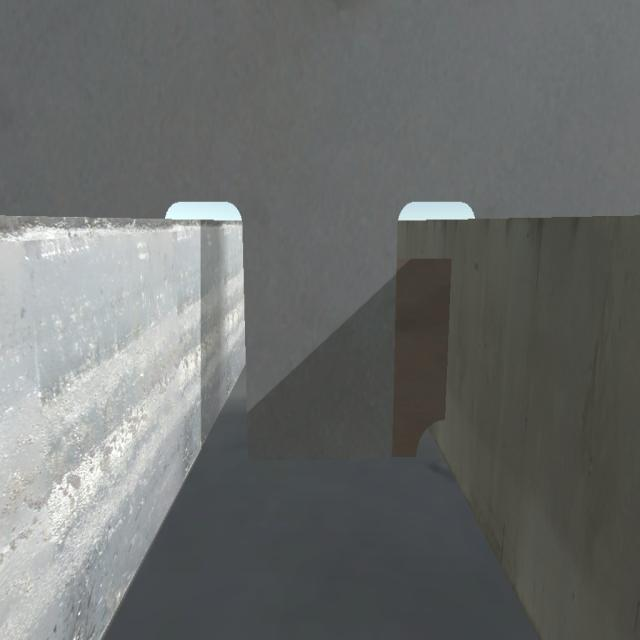fillet_hole: (415, 414, 445, 459)
fillet_yong_jeop_jang: (238, 448, 412, 467)
longi_yong_jeop_jang: (439, 257, 458, 428)
plate_behind: (394, 265, 448, 454)
